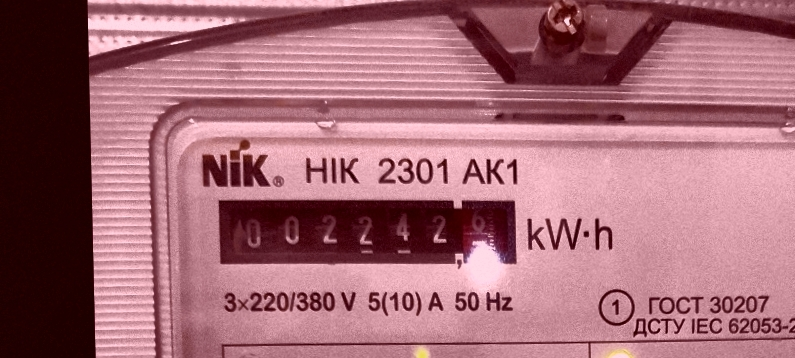0: (243, 215, 264, 249), (281, 212, 301, 245)
2: (319, 212, 339, 244), (356, 212, 374, 246), (430, 212, 448, 244)
4: (395, 209, 411, 242)
6: (470, 206, 486, 233)
screen: (207, 182, 527, 279)
